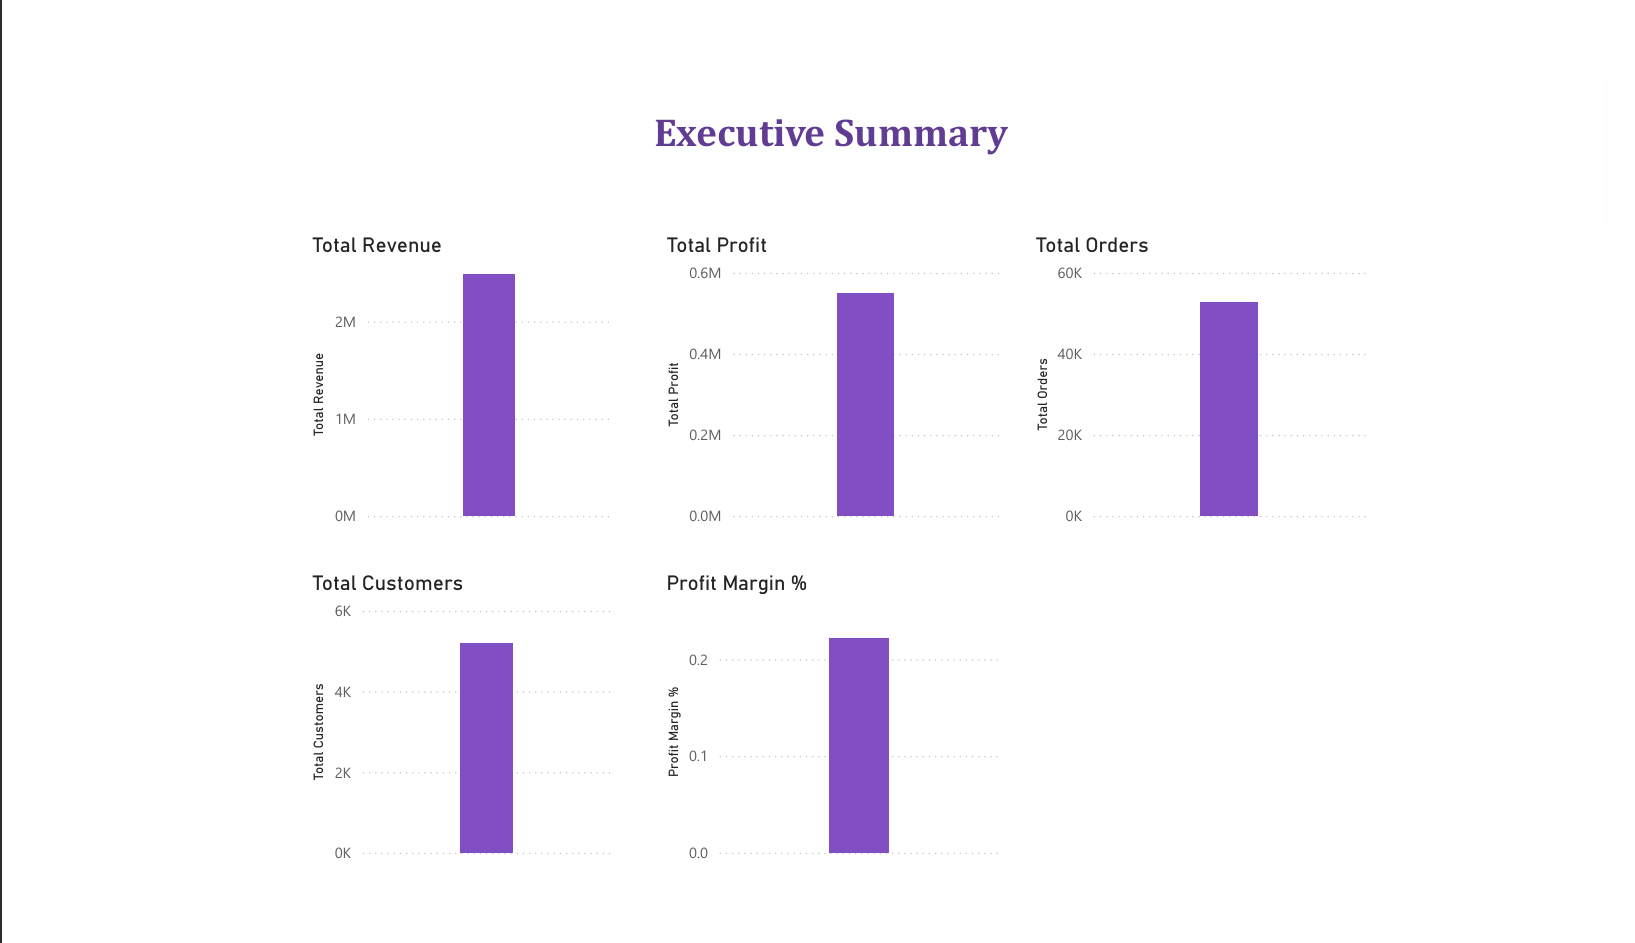

Layout of this report page (visuals, bound fields, positions):
{"tool":"powerbi","page":{"name":"Executive Summary","canvas":[1280,720],"ordinal":1},"visuals":[{"type":"columnChart","fields":{"Y":["processed_pharmacy_data.Total Revenue"]},"box":[223.5,165.4,254.3,244.4],"z":3000},{"type":"columnChart","fields":{"Y":["processed_pharmacy_data.Total Profit"]},"box":[511.1,165.4,281.5,244.4],"z":4000},{"type":"columnChart","fields":{"Y":["processed_pharmacy_data.Total Orders"]},"box":[811.1,165.4,280.2,244.4],"z":5000},{"type":"columnChart","fields":{"Y":["processed_pharmacy_data.Total Customers"]},"box":[223.5,439.5,254.3,244.4],"z":6000},{"type":"columnChart","fields":{"Y":["processed_pharmacy_data.Profit Margin %"]},"box":[511.1,439.5,281.5,244.4],"z":7000},{"type":"textbox","box":[423.5,60.5,472.8,54.3],"z":7001}]}

Visuals, with their boxes in screenshot pixels (x1, y1, x2, y2), scaled from the page's 1280x720 canvas onto the 1635x943 screenshot:
columnChart - processed_pharmacy_data.Total Revenue: BBox(285, 217, 610, 537)
columnChart - processed_pharmacy_data.Total Profit: BBox(653, 217, 1012, 537)
columnChart - processed_pharmacy_data.Total Orders: BBox(1036, 217, 1394, 537)
columnChart - processed_pharmacy_data.Total Customers: BBox(285, 576, 610, 896)
columnChart - processed_pharmacy_data.Profit Margin %: BBox(653, 576, 1012, 896)
textbox: BBox(541, 79, 1145, 150)
